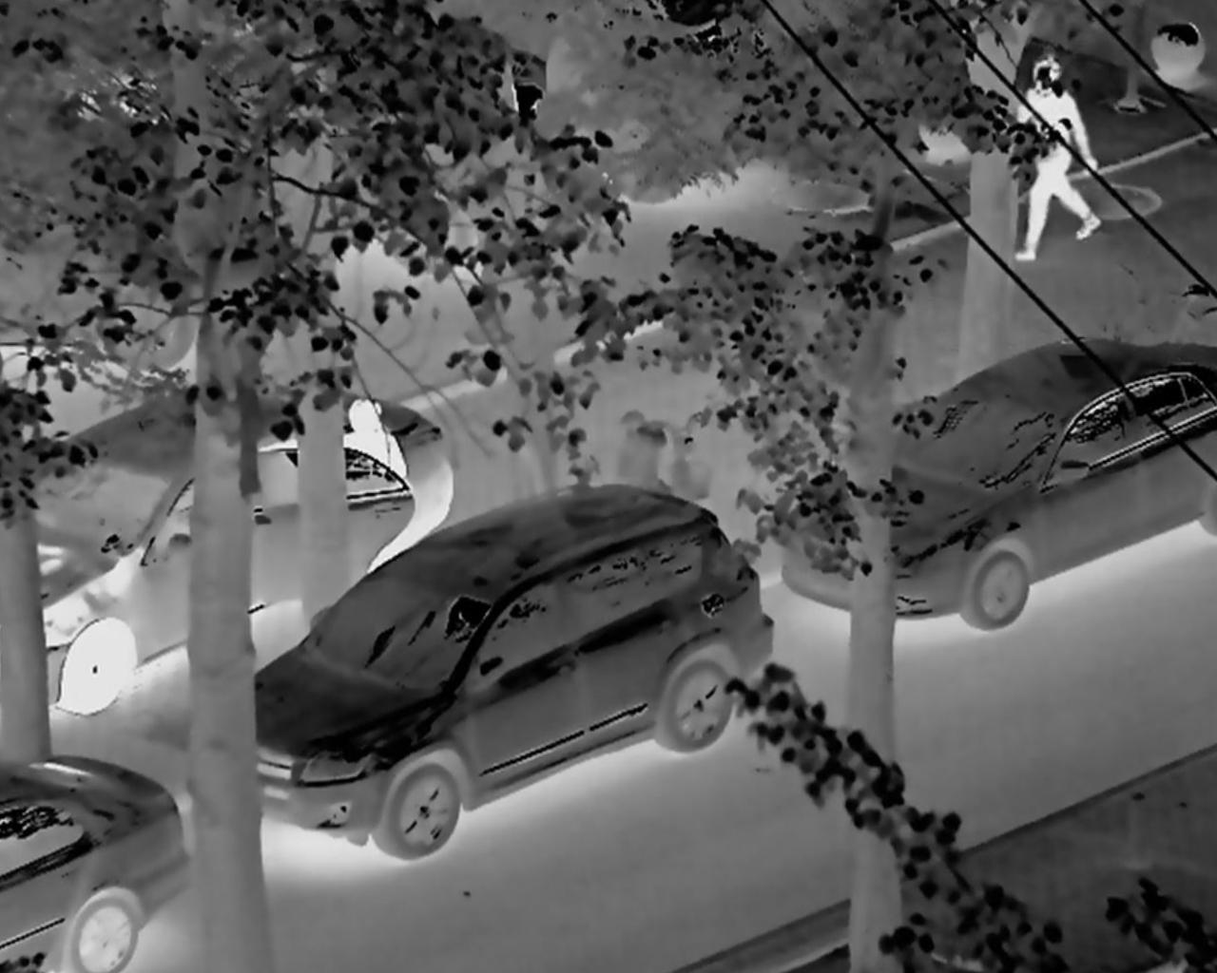person: (1014, 27, 1111, 283), (344, 391, 410, 552)
